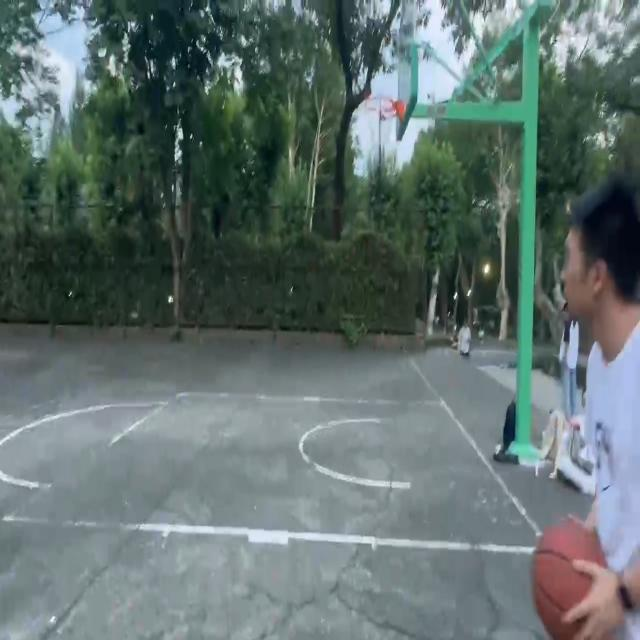basketball: (360, 90, 410, 156)
rim: (526, 517, 608, 640)
